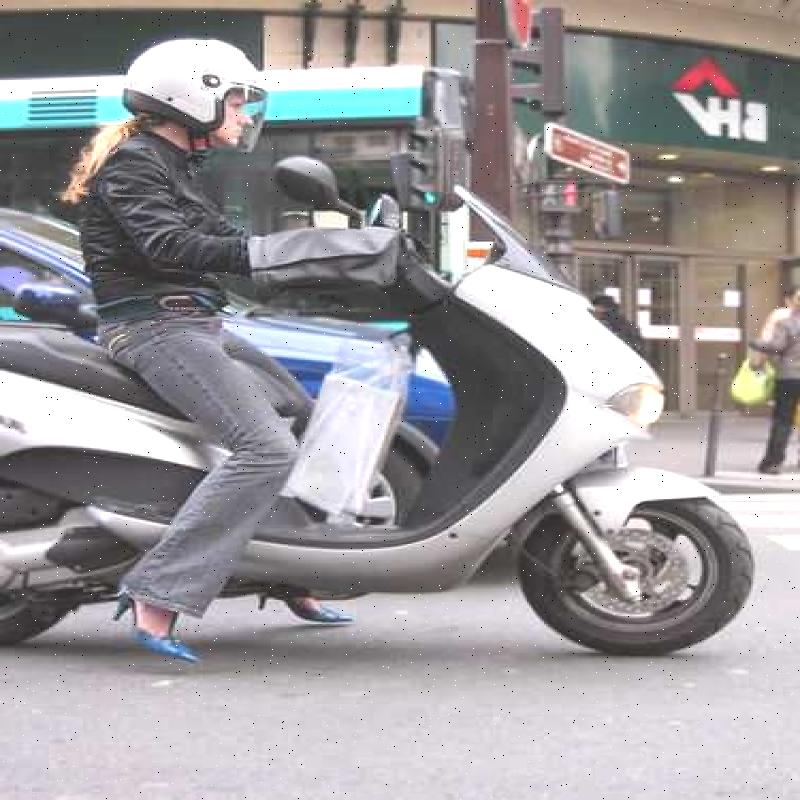bike: (48, 178, 714, 683)
